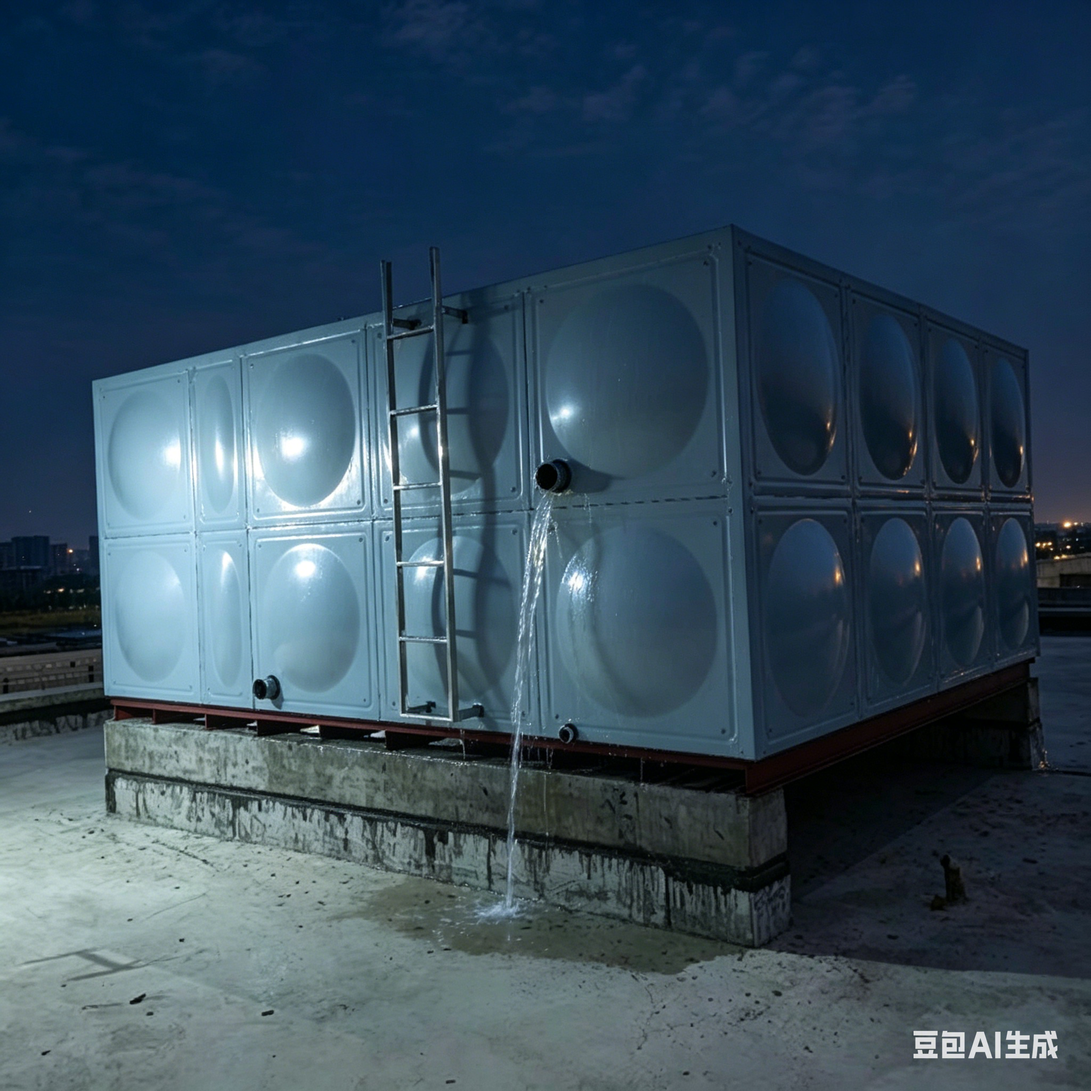Leakage: (489, 489, 562, 949), (568, 898, 730, 973), (377, 872, 481, 951)
